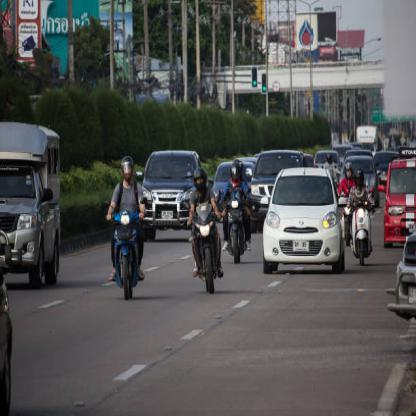Motorcycle: (104, 197, 151, 301), (190, 194, 225, 300), (221, 187, 251, 266)
